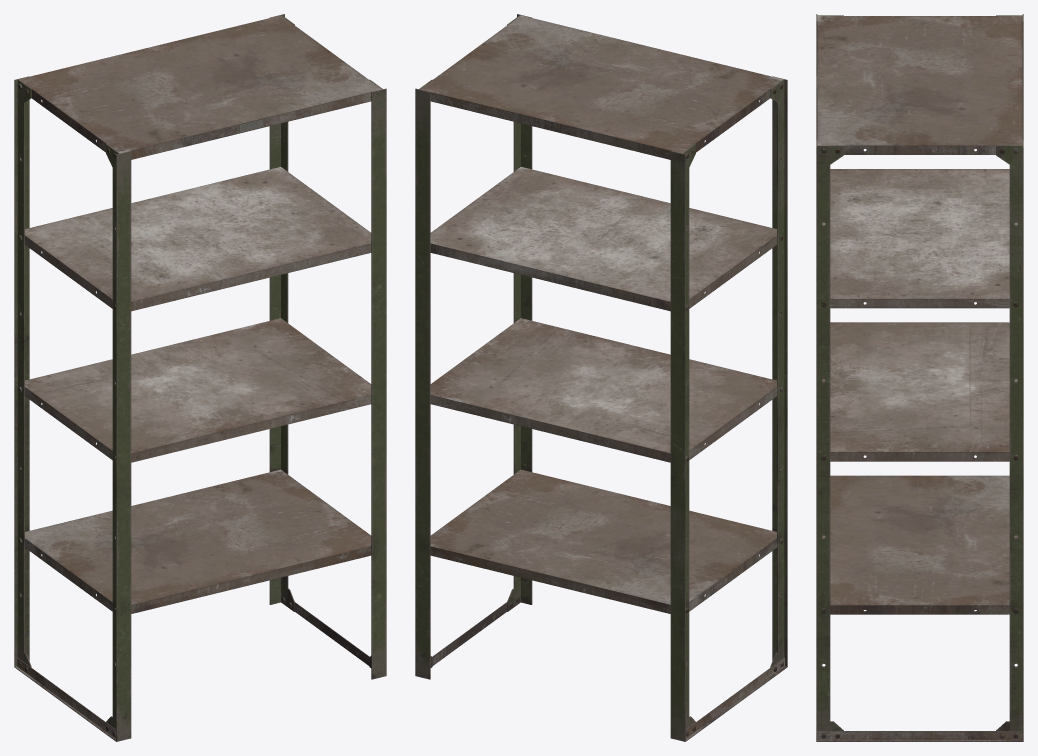
The model's file is worn_metal_rack.glb.
3 views of the same model, side by side, from view 1: azimuth 30°, elevation 25°; view 2: azimuth 150°, elevation 25°; view 3: azimuth 270°, elevation 25° (orthographic).
Parts seen in each view (by area): view 1: worn_metal_rack; view 2: worn_metal_rack; view 3: worn_metal_rack.
Boxes of the visible parts, x1,y1,x2,y2 form: worn_metal_rack: (14, 14, 386, 741); worn_metal_rack: (415, 14, 787, 741); worn_metal_rack: (816, 14, 1023, 741).
Bounding box in the file's own units: 0.9154 × 1.9 × 0.6.
Materials: 1 (1 with a texture image).
